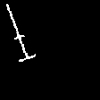double_crochet: (6, 4, 34, 61)
